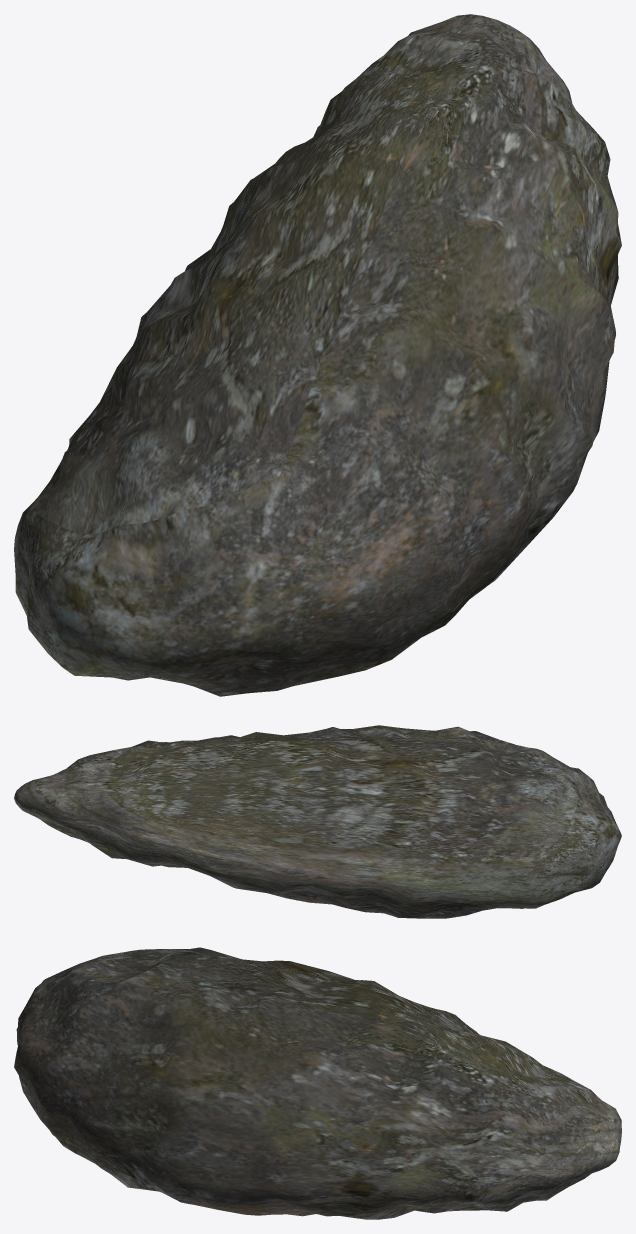
The model's file is M_Rock_4.fbx.
3 views of the same model, one above another, from view 1: azimuth 30°, elevation 25°; view 2: azimuth 150°, elevation 25°; view 3: azimuth 270°, elevation 25° (orthographic). The views are drawn at different scales.
Parts seen in each view (by area): view 1: Cube; view 2: Cube; view 3: Cube.
Boxes of the visible parts, x1,y1,x2,y2 form: Cube: (14, 14, 621, 696); Cube: (14, 725, 621, 918); Cube: (14, 947, 621, 1219).
Bounding box in the file's own units: 1194 × 459 × 1096.
Materials: 1 (1 with a texture image).
